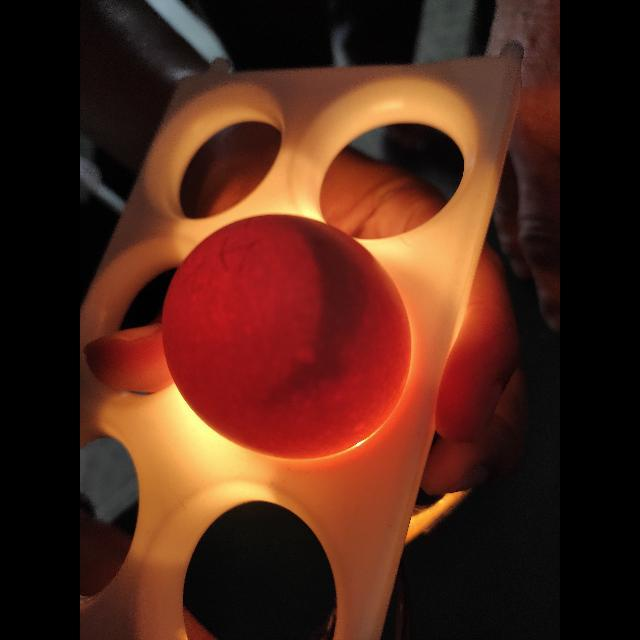Infertile: (159, 212, 413, 462)
